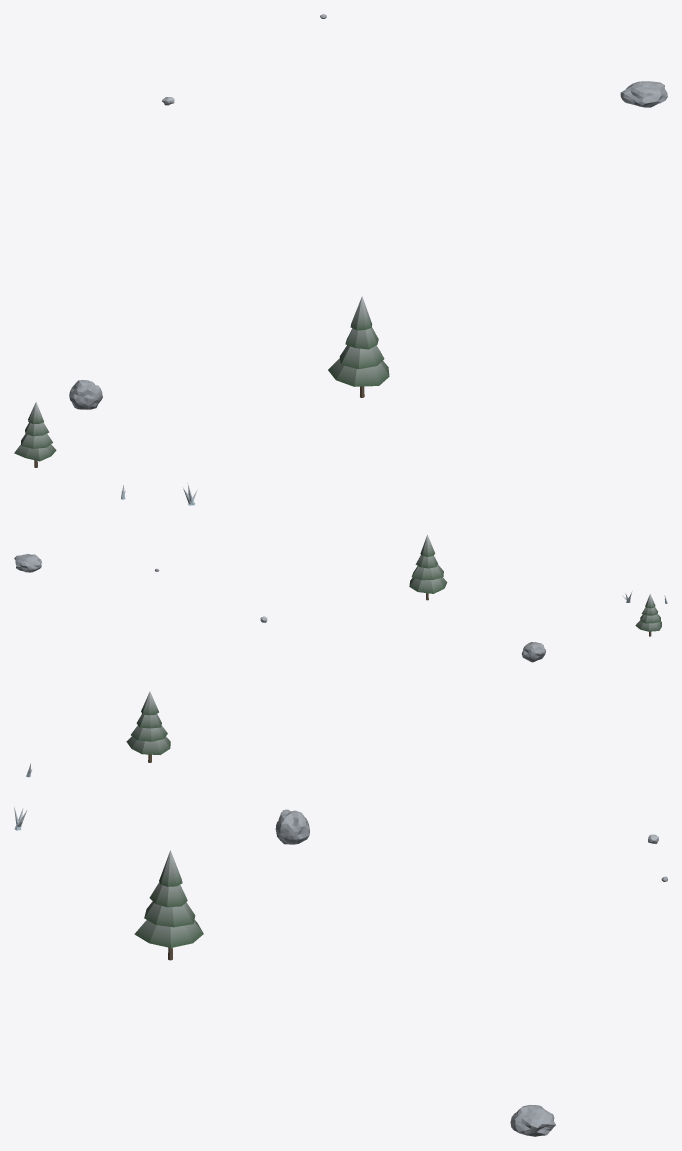
The model's file is frost_land_scatter_c13_13.glb.
3 renders of one model, top to bottom at view 1: azimuth 30°, elevation 25°; view 2: azimuth 150°, elevation 25°; view 3: azimuth 270°, elevation 25°, orthographic. The views are drawn at different scales.
Parts seen in each view (by area): view 1: frost_land_scatter_c13_13; view 2: frost_land_scatter_c13_13; view 3: frost_land_scatter_c13_13.
Boxes of the visible parts, bbox=[...] form: frost_land_scatter_c13_13: bbox=[14, 14, 667, 505]; frost_land_scatter_c13_13: bbox=[14, 535, 667, 662]; frost_land_scatter_c13_13: bbox=[14, 691, 667, 1136].
Bounding box in the file's own units: 116 × 22.65 × 73.59.
